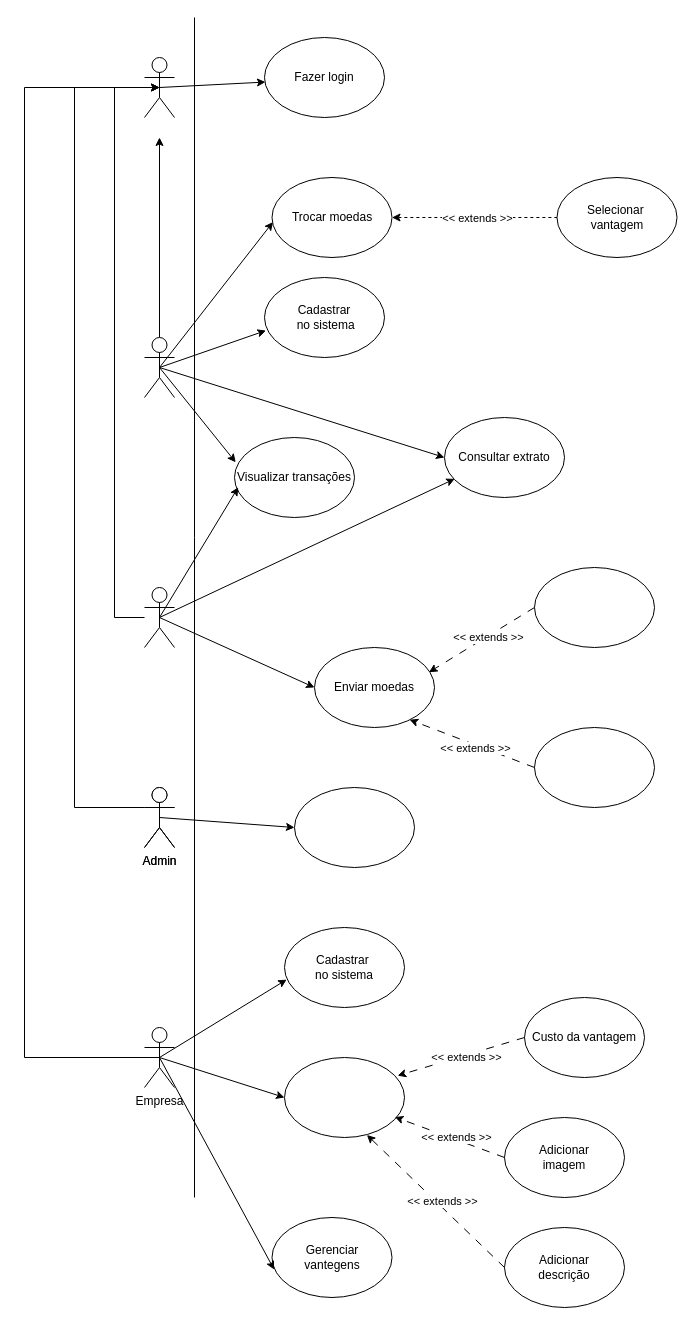
Image size: 695x1325. Some labels were removed from this diagram. Each missing label, with the box of its shape:
Aluno: (144, 336, 174, 398)
Cadastrar vantagem: (284, 1056, 404, 1138)
Gerenciar professores: (294, 786, 414, 868)
Motivo: (534, 726, 654, 808)
Professor: (144, 586, 174, 648)
Selecionar aluno: (534, 566, 654, 648)
User: (144, 56, 174, 118)
